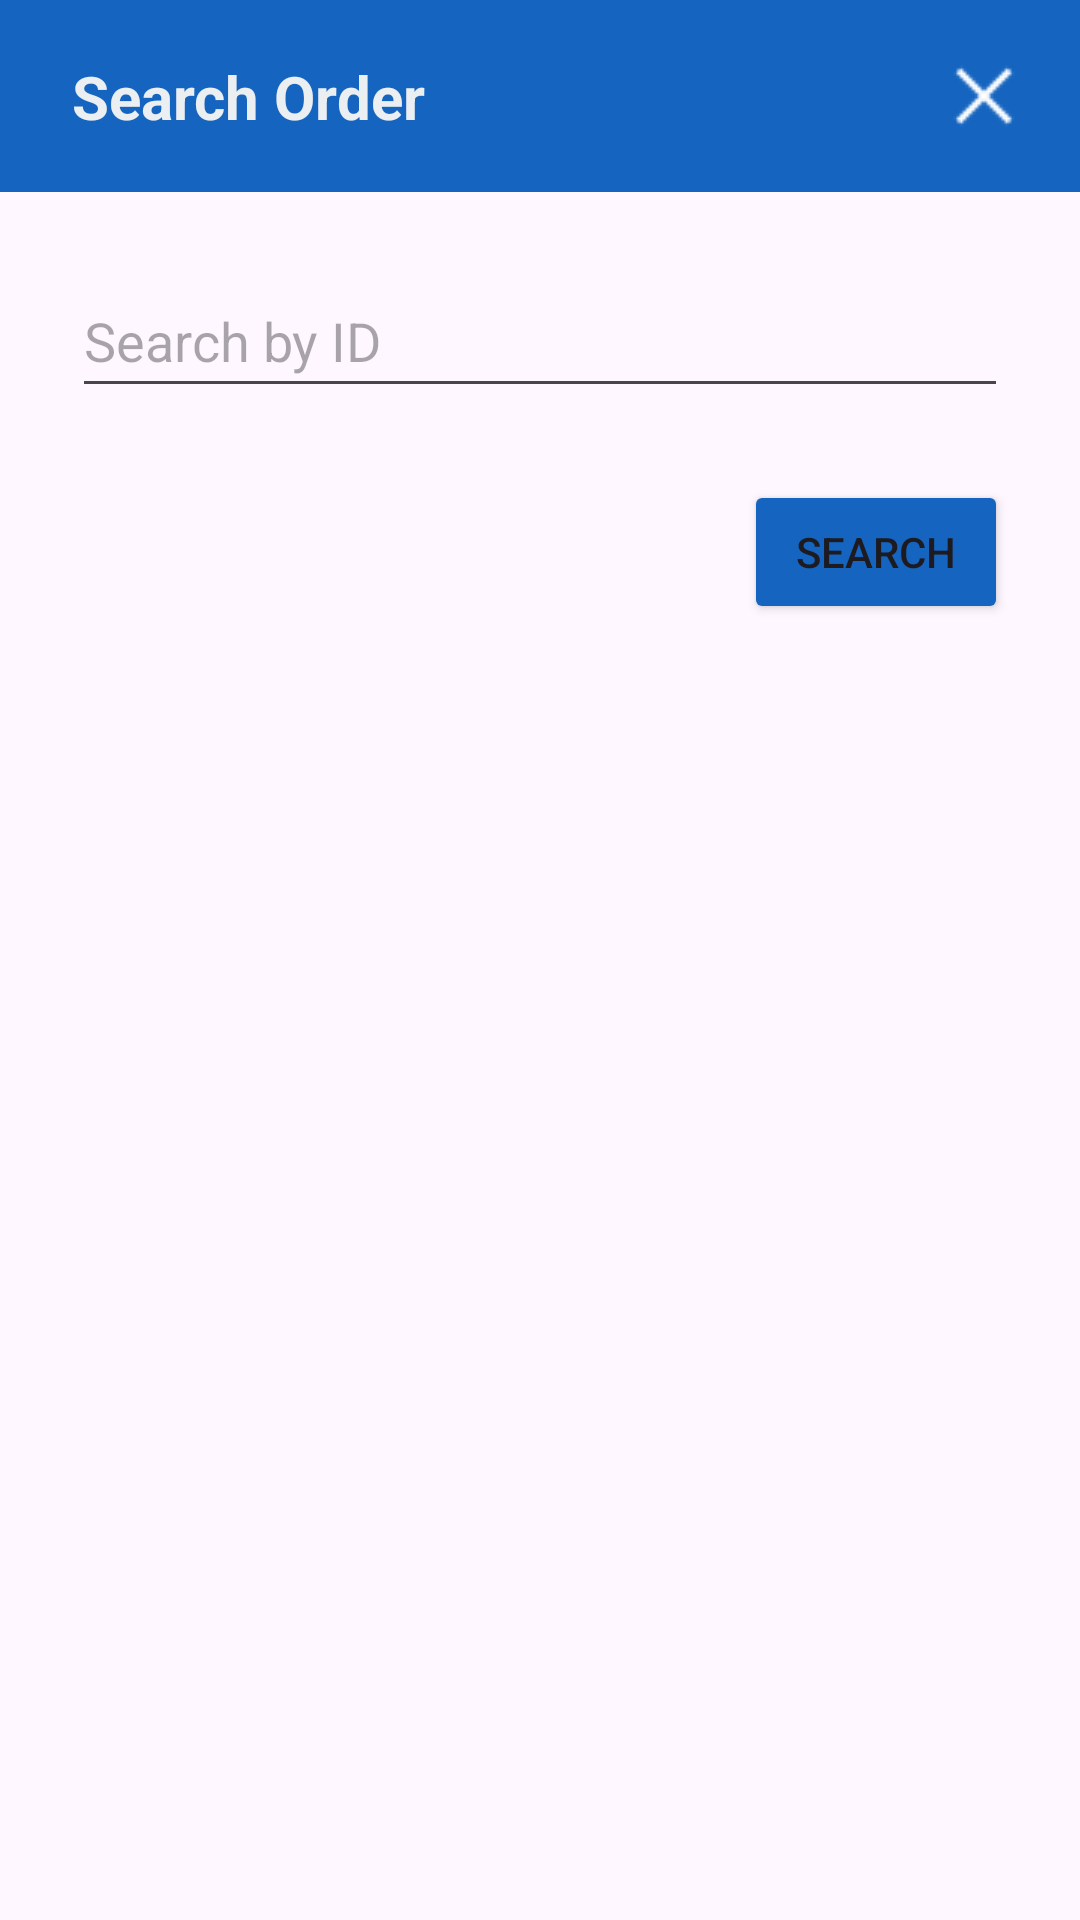

Icons on this 1080 x 1920 Android screen, each with the point to tap as (x,y):
Close: (984,96)
